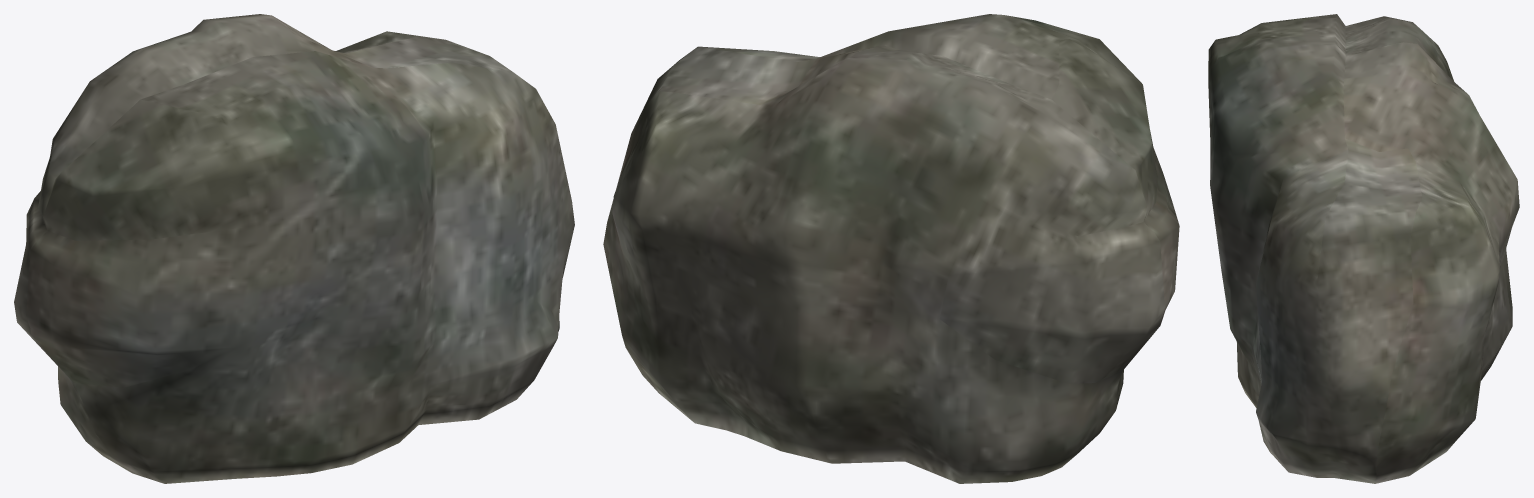
File: garden-rock.glb
The picture shows the model from 3 angles, left to right: view 1: azimuth 30°, elevation 25°; view 2: azimuth 150°, elevation 25°; view 3: azimuth 270°, elevation 25°; orthographic projection. The views are drawn at different scales.
Size of the model in its own units: 9.74 by 6.61 by 5.62.
Materials: 1 (1 with a texture image).
